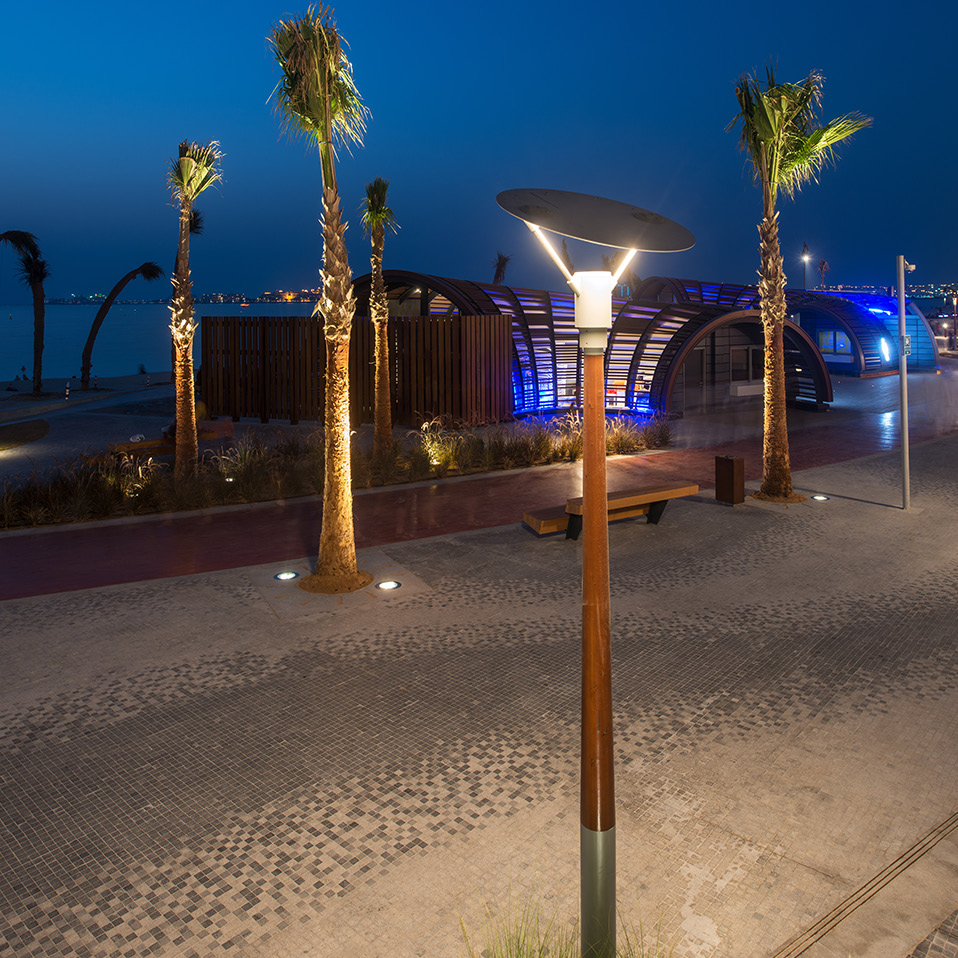light_pole: (512, 207, 670, 958), (872, 264, 935, 520)
